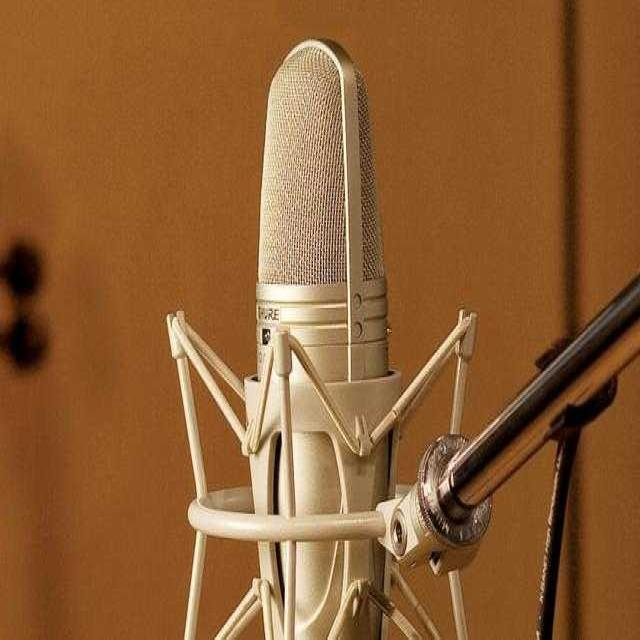microphone: (253, 38, 392, 640)
